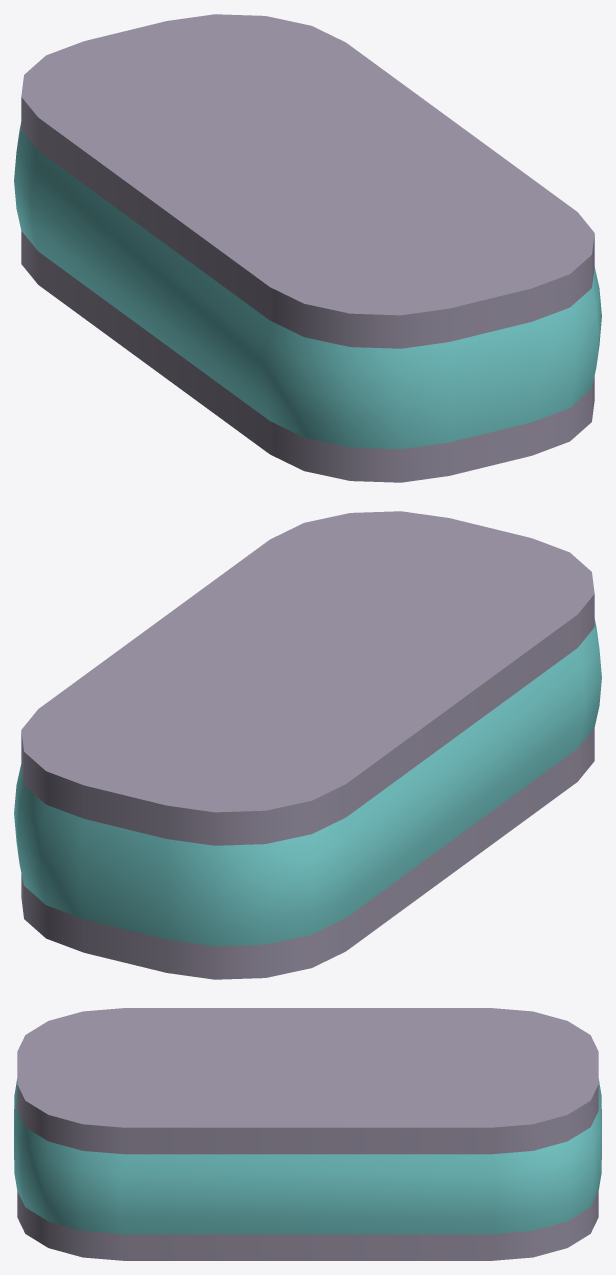
Rendered from EM_083_capsule_light.glb.
3 views of the same model, one above another, from view 1: azimuth 30°, elevation 25°; view 2: azimuth 150°, elevation 25°; view 3: azimuth 270°, elevation 25° (orthographic). The views are drawn at different scales.
Parts seen in each view (by area): view 1: light; view 2: light; view 3: light.
Boxes of the visible parts, x1,y1,x2,y2 form: light: [14, 14, 601, 482]; light: [14, 511, 601, 979]; light: [14, 1008, 601, 1260].
Bounding box in the file's own units: 0.75 × 0.375 × 1.5.
